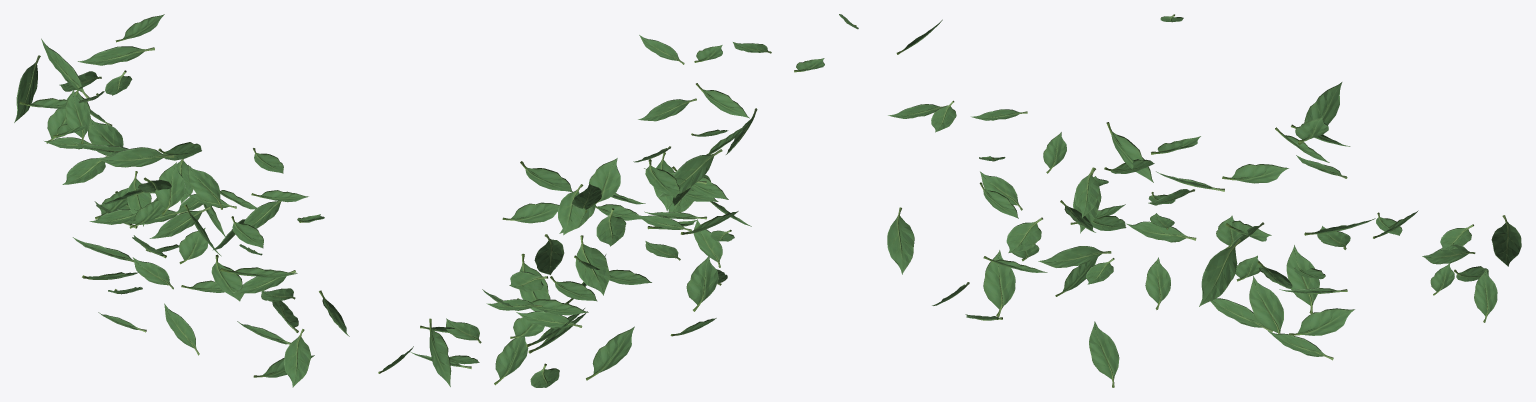
The model's file is holy_canopy7_full.glb.
3 views of the same model, side by side, from view 1: azimuth 30°, elevation 25°; view 2: azimuth 150°, elevation 25°; view 3: azimuth 270°, elevation 25° (orthographic). The views are drawn at different scales.
Visible parts, largest first — view 1: holy_canopy7; view 2: holy_canopy7; view 3: holy_canopy7.
Part boxes in pixels (x1=…): holy_canopy7: x1=14, y1=14, x2=349, y2=387; holy_canopy7: x1=378, y1=14, x2=858, y2=387; holy_canopy7: x1=887, y1=14, x2=1521, y2=387.
Bounding box in the file's own units: 8.45 × 12.8 × 23.17.
1 material, 1 textured.
